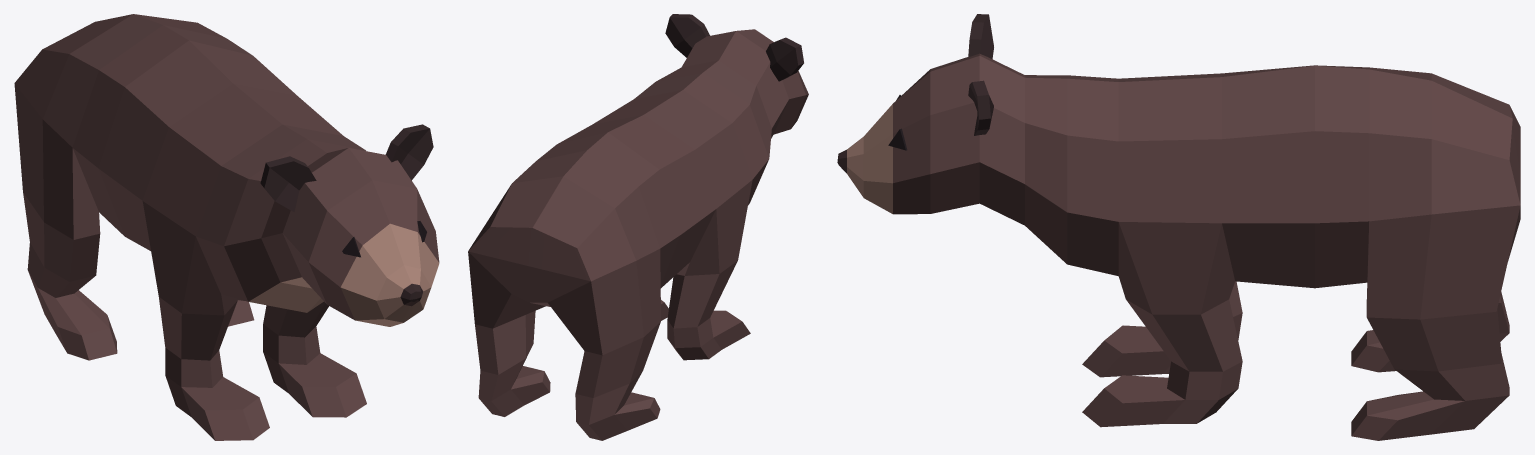
Rendered from Bear Cub.glb.
3 renders of one model, left to right at view 1: azimuth 30°, elevation 25°; view 2: azimuth 150°, elevation 25°; view 3: azimuth 270°, elevation 25°, orthographic. The views are drawn at different scales.
Visible parts, largest first — view 1: Geo_BearCub; view 2: Geo_BearCub; view 3: Geo_BearCub.
Part boxes in pixels (x1,y1,x2,y2): Geo_BearCub: [14, 14, 439, 440]; Geo_BearCub: [468, 14, 808, 440]; Geo_BearCub: [837, 14, 1520, 440].
Bounding box in the file's own units: 35.58 × 58.42 × 106.
1 material, 1 textured.
